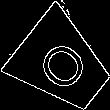O_SE: (30, 32, 94, 97)
